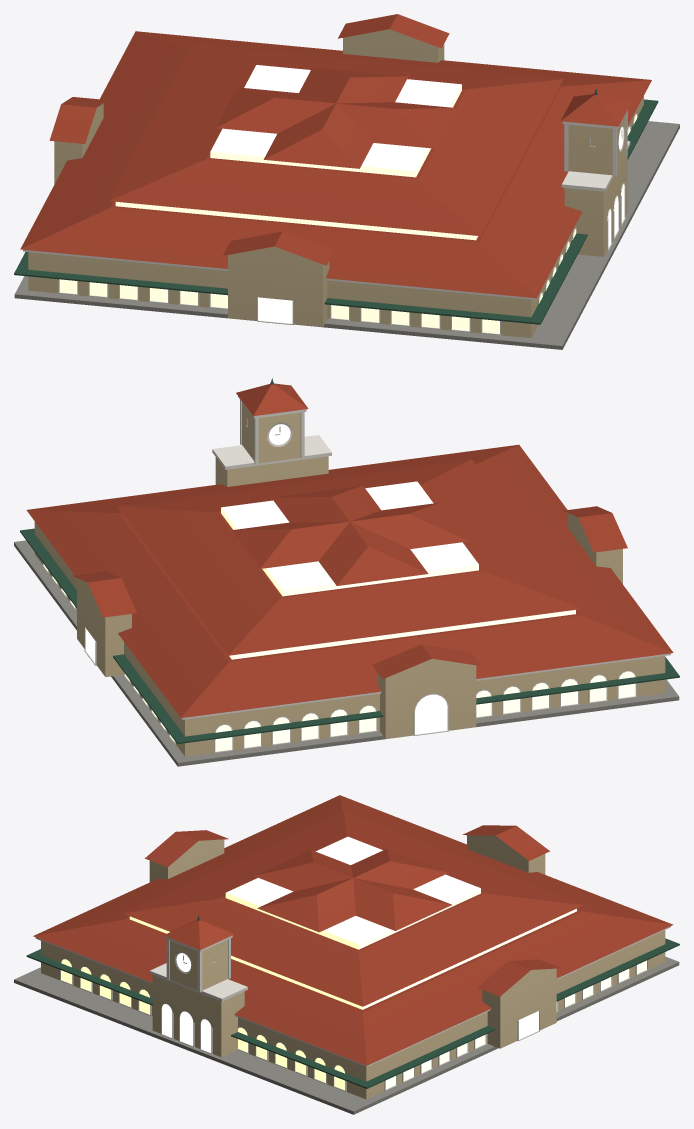
The model's file is cho_ben_thanh.glb.
3 renders of one model, top to bottom at view 1: azimuth 30°, elevation 25°; view 2: azimuth 150°, elevation 25°; view 3: azimuth 270°, elevation 25°, orthographic. The views are drawn at different scales.
Parts seen in each view (by area): view 1: cho_ben_thanh; view 2: cho_ben_thanh; view 3: cho_ben_thanh.
Part boxes in pixels (box(x1,y1,x2,y2)): cho_ben_thanh: box(14, 14, 679, 349); cho_ben_thanh: box(14, 378, 679, 766); cho_ben_thanh: box(14, 795, 679, 1114).
Bounding box in the file's own units: 136 × 28.5 × 136.
